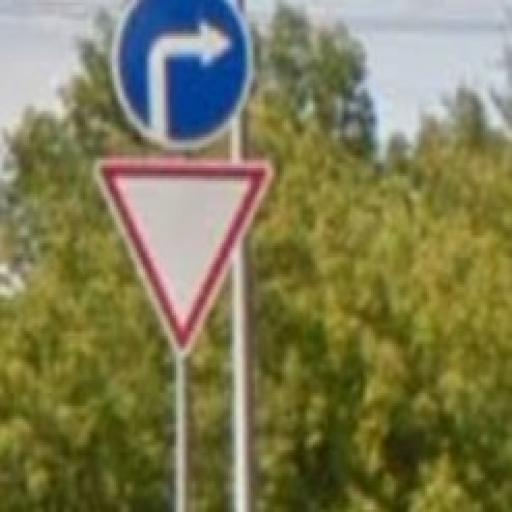traffic_sign: (94, 156, 277, 363)
